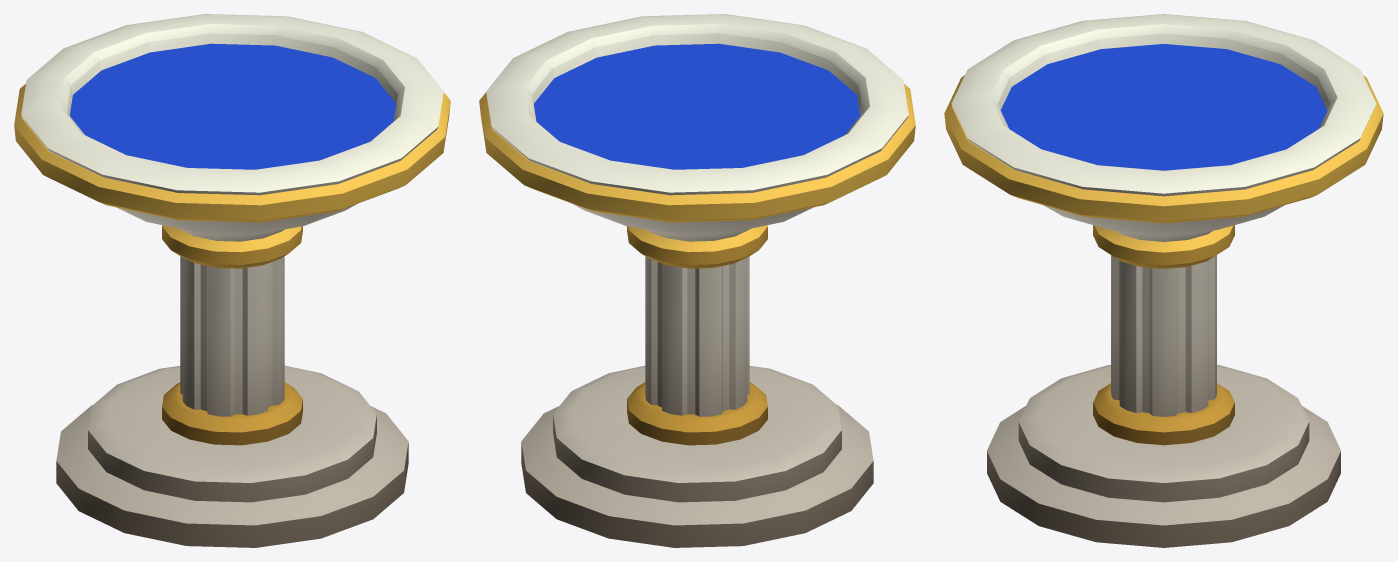
The model's file is fountain_chalice_mana.glb.
3 renders of one model, left to right at view 1: azimuth 30°, elevation 25°; view 2: azimuth 150°, elevation 25°; view 3: azimuth 270°, elevation 25°, orthographic.
Parts seen in each view (by area): view 1: Item, Liquid; view 2: Item, Liquid; view 3: Item, Liquid.
Boxes of the visible parts, x1,y1,x2,y2 form: Item: (14, 14, 450, 547); Liquid: (69, 43, 396, 169); Item: (479, 14, 915, 547); Liquid: (533, 43, 860, 169); Item: (944, 14, 1383, 547); Liquid: (1000, 44, 1327, 170).
Bounding box in the file's own units: 1.24 × 1.17 × 1.24.
3 materials, 3 textured.
